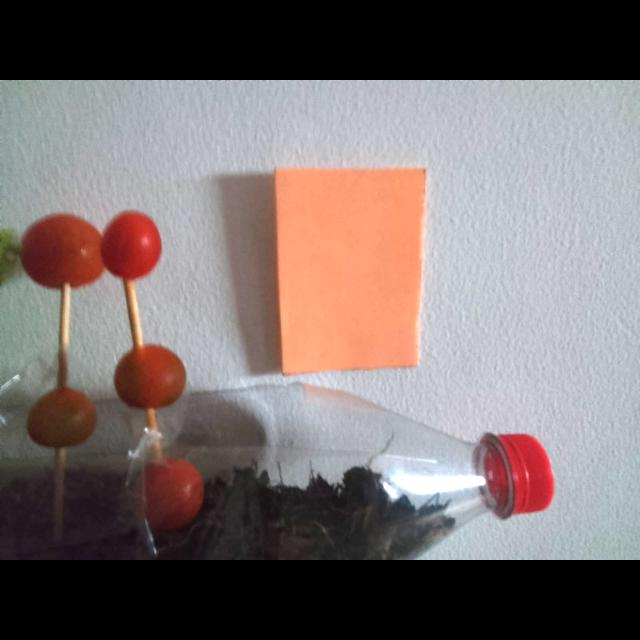card: (21, 211, 185, 452), (275, 169, 425, 374)
fruit_maturation: (21, 211, 203, 539)
